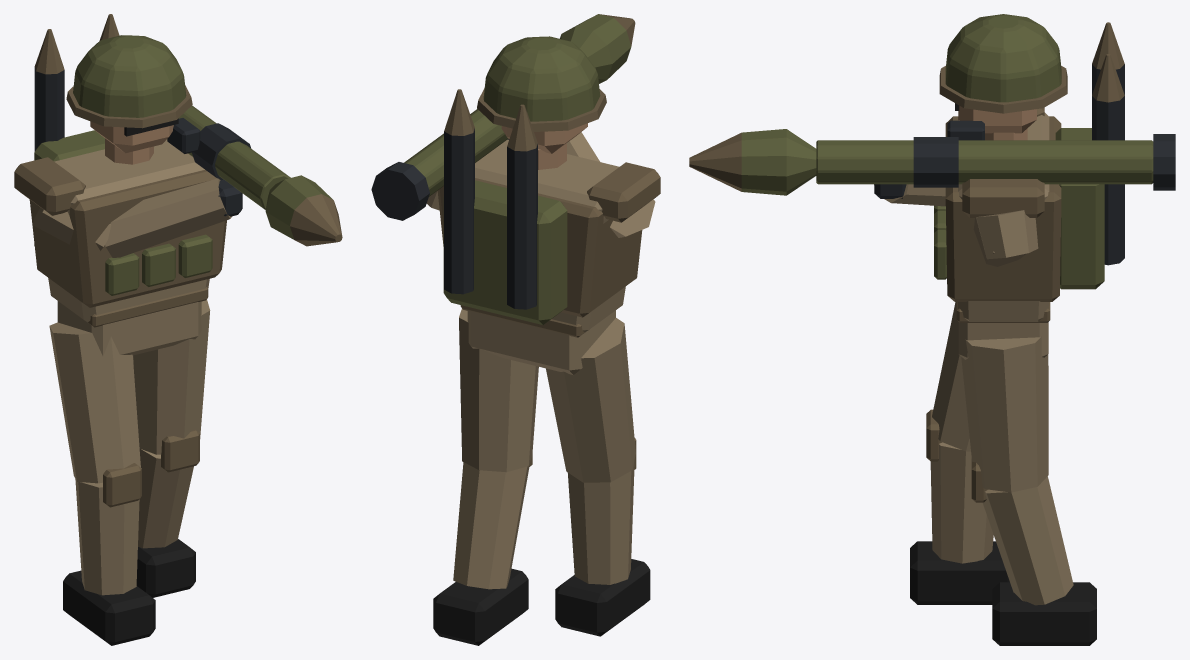
File: infanteria-rpg.glb
The picture shows the model from 3 angles, left to right: view 1: azimuth 30°, elevation 25°; view 2: azimuth 150°, elevation 25°; view 3: azimuth 270°, elevation 25°; orthographic projection. The views are drawn at different scales.
Parts seen in each view (by area): view 1: turret_yaw, pierna_izq, pierna_der, gun_pitch, rocket_01; view 2: turret_yaw, pierna_der, pierna_izq, gun_pitch, rocket_01; view 3: turret_yaw, pierna_der, gun_pitch, pierna_izq, rocket_01.
Boxes of the visible parts, <box> form: turret_yaw: <box>14,14,226,356</box>; pierna_izq: <box>49,322,155,645</box>; pierna_der: <box>133,299,210,597</box>; gun_pitch: <box>33,105,290,257</box>; rocket_01: <box>265,175,342,246</box>; turret_yaw: <box>437,36,660,374</box>; pierna_der: <box>433,309,538,645</box>; pierna_izq: <box>546,318,650,636</box>; gun_pitch: <box>371,109,655,237</box>; rocket_01: <box>560,14,635,83</box>; turret_yaw: <box>934,14,1124,359</box>; pierna_der: <box>961,336,1096,645</box>; gun_pitch: <box>816,120,1175,266</box>; pierna_izq: <box>910,302,1009,604</box>; rocket_01: <box>689,129,816,195</box>.
Size of the model in its own units: 1.41 by 3.5 by 2.6.
